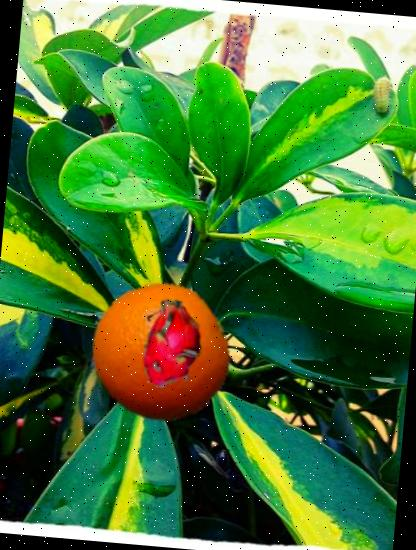Orange: (86, 277, 237, 428)
Pitahaya: (121, 295, 220, 394)
